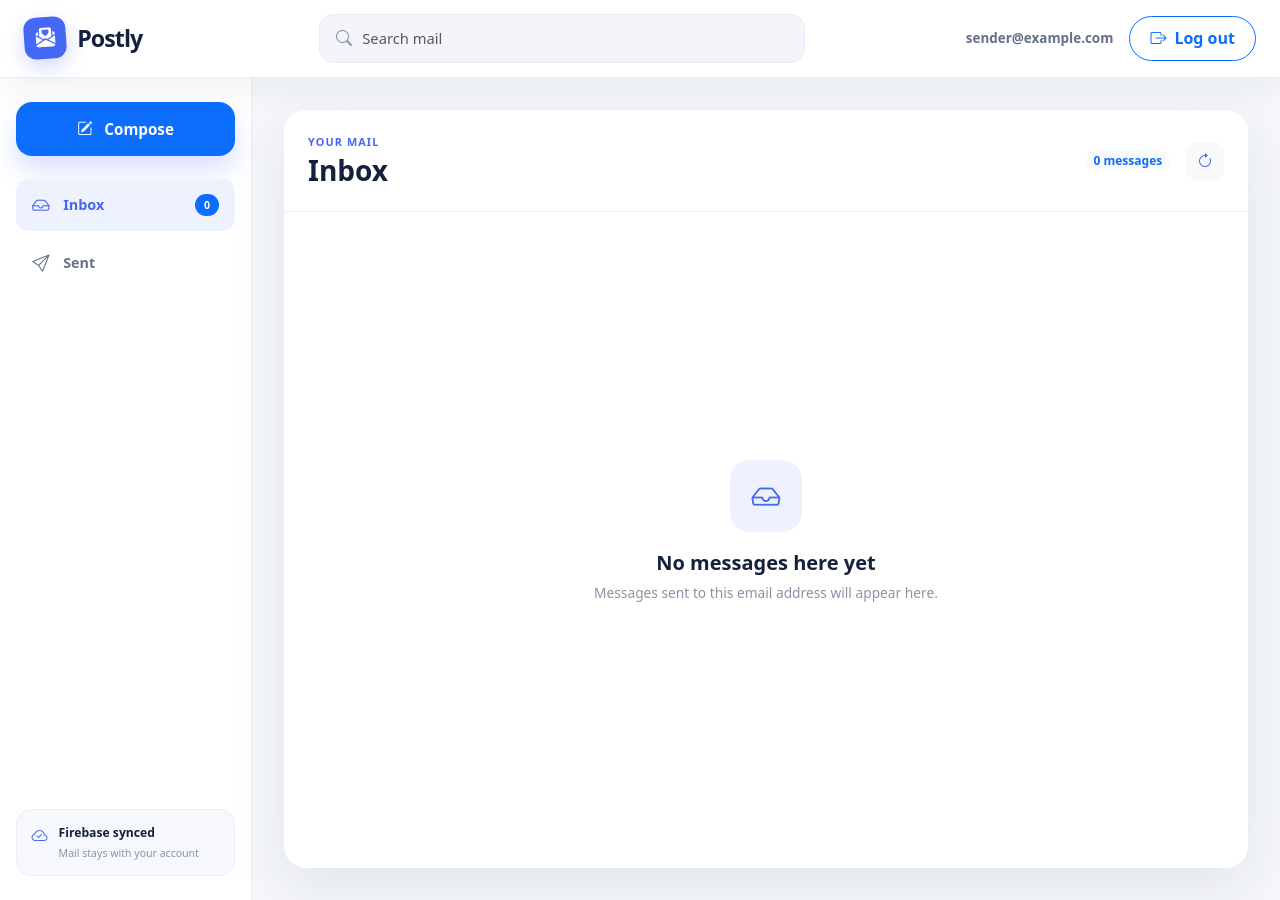
Compose mail component › closes and discards the compose screen without sending
Click the button "Compose" at (126, 129), box [16, 102, 235, 156]
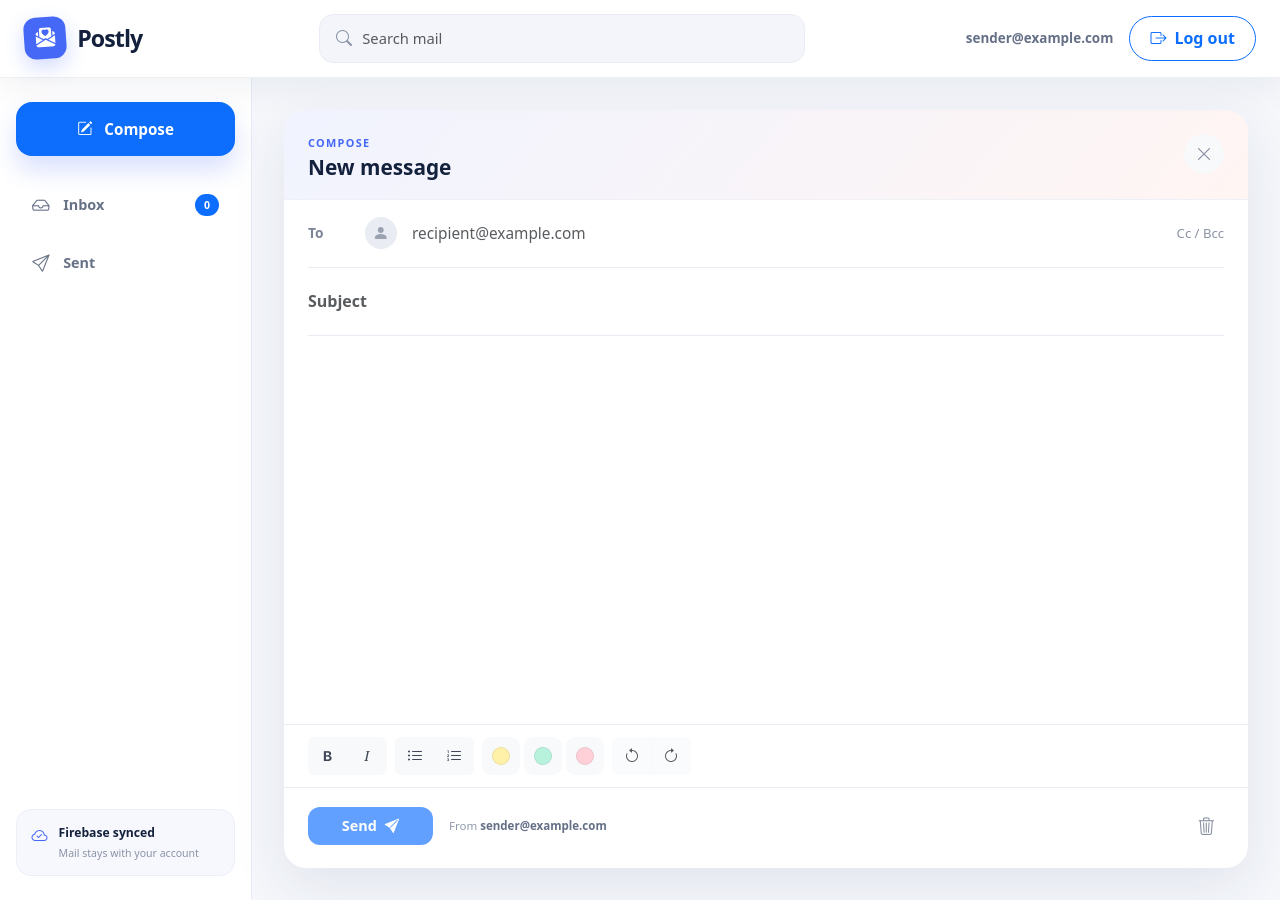
Click the button named "Discard draft" at (1206, 826), box [1188, 804, 1224, 848]
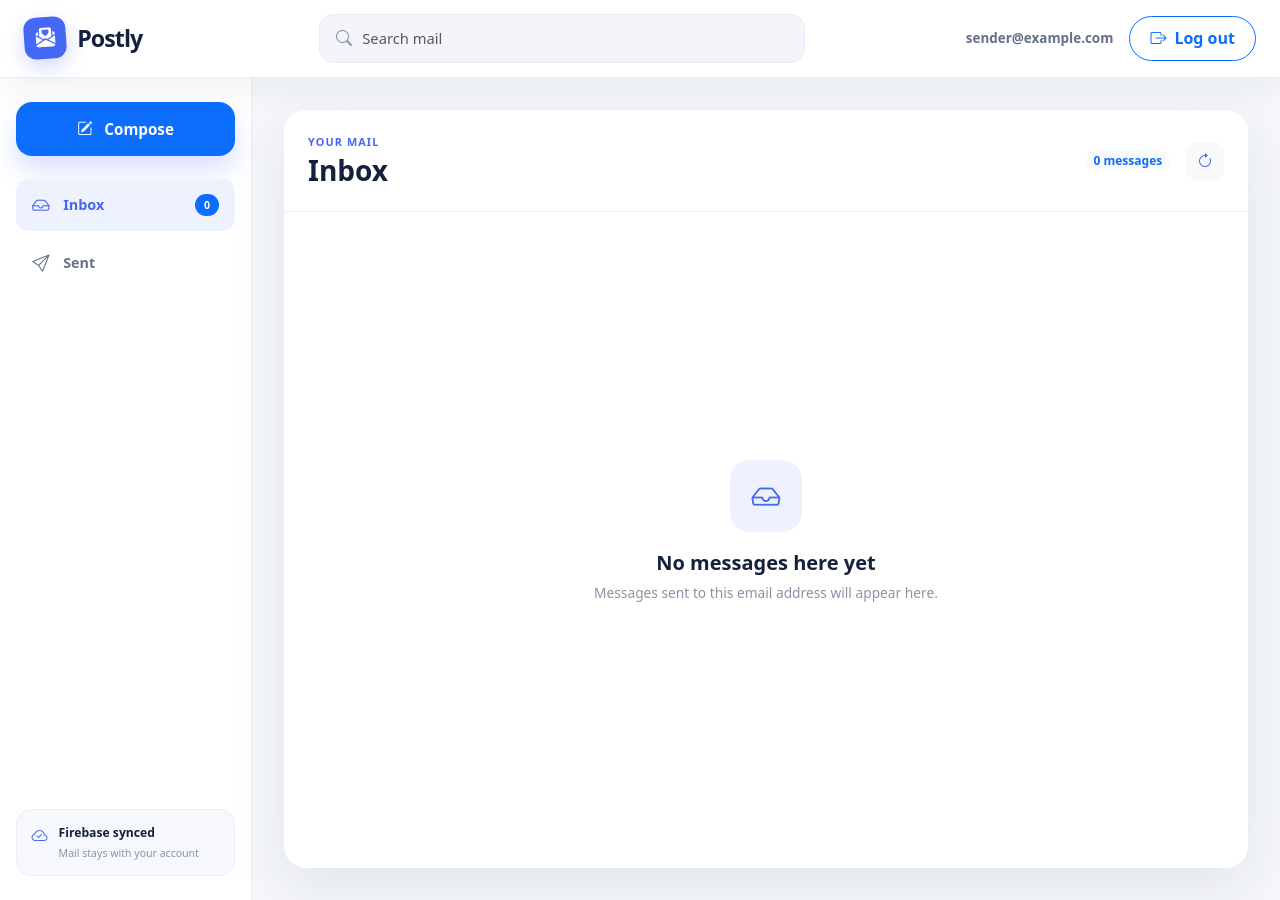
Result: the heading "Inbox" is shown at [308, 154, 388, 187]
